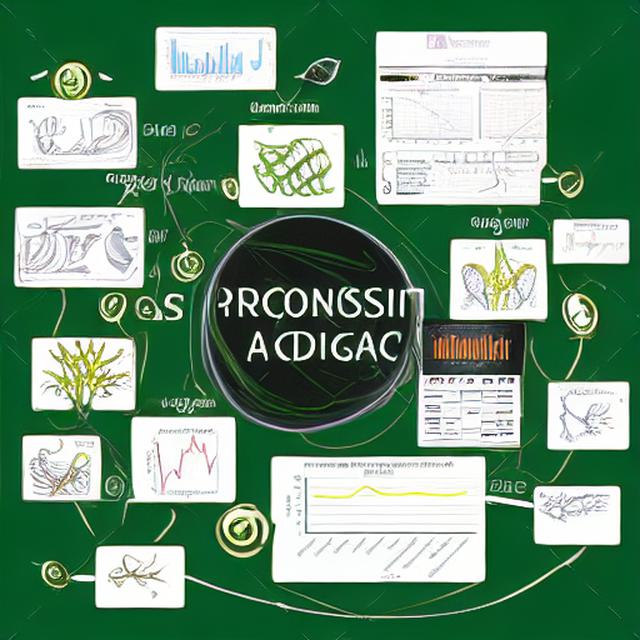Graph: (278, 459, 478, 580), (136, 425, 234, 499), (378, 88, 476, 148), (424, 322, 512, 375), (163, 32, 245, 88), (565, 222, 628, 259)
